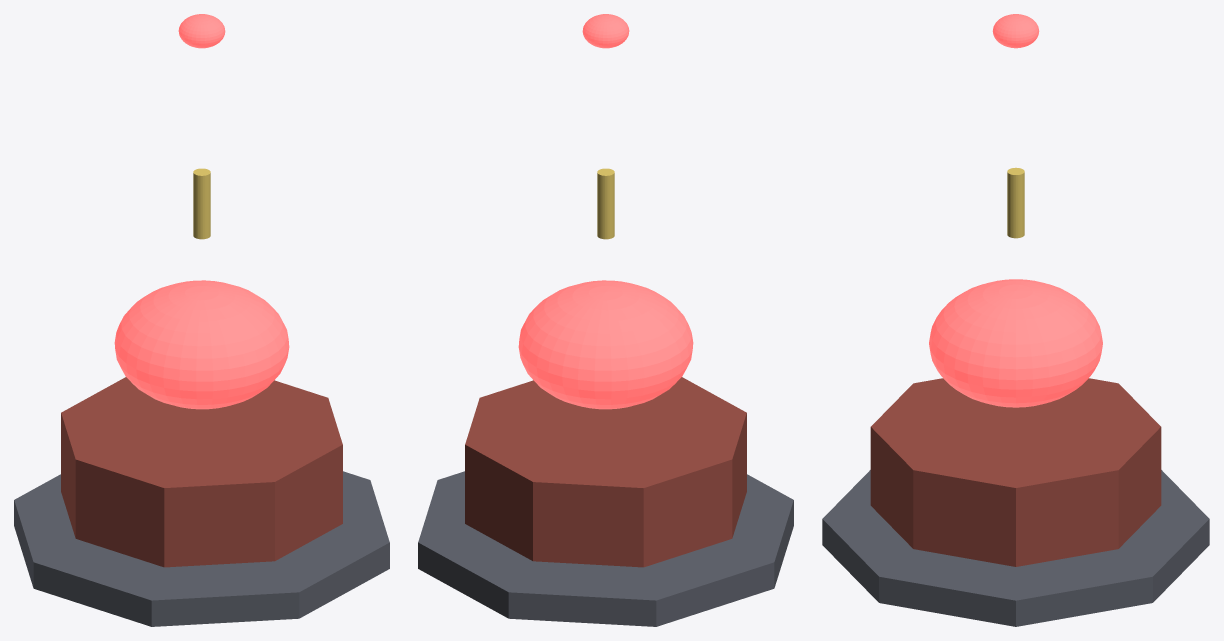
The model's file is SU_ConYard_LOD0.glb.
3 renders of one model, left to right at view 1: azimuth 30°, elevation 25°; view 2: azimuth 150°, elevation 25°; view 3: azimuth 270°, elevation 25°, orthographic.
Parts seen in each view (by area): view 1: Cylinder.001, Cylinder, Sphere, Sphere.001, Cylinder.002; view 2: Cylinder.001, Cylinder, Sphere, Sphere.001, Cylinder.002; view 3: Cylinder.001, Cylinder, Sphere, Sphere.001, Cylinder.002.
Boxes of the visible parts, <box> form: Cylinder.001: <box>61,377,342,567</box>; Cylinder: <box>14,471,389,626</box>; Sphere: <box>114,280,289,409</box>; Sphere.001: <box>178,14,225,48</box>; Cylinder.002: <box>193,168,210,239</box>; Cylinder.001: <box>465,377,746,567</box>; Cylinder: <box>418,471,793,626</box>; Sphere: <box>518,280,693,409</box>; Sphere.001: <box>582,14,629,48</box>; Cylinder.002: <box>597,168,614,239</box>; Cylinder.001: <box>870,378,1161,566</box>; Cylinder: <box>822,470,1209,626</box>; Sphere: <box>929,279,1102,407</box>; Sphere.001: <box>992,14,1039,48</box>; Cylinder.002: <box>1007,167,1024,238</box>.
Bounding box in the file's own units: 8 × 12.04 × 8.
